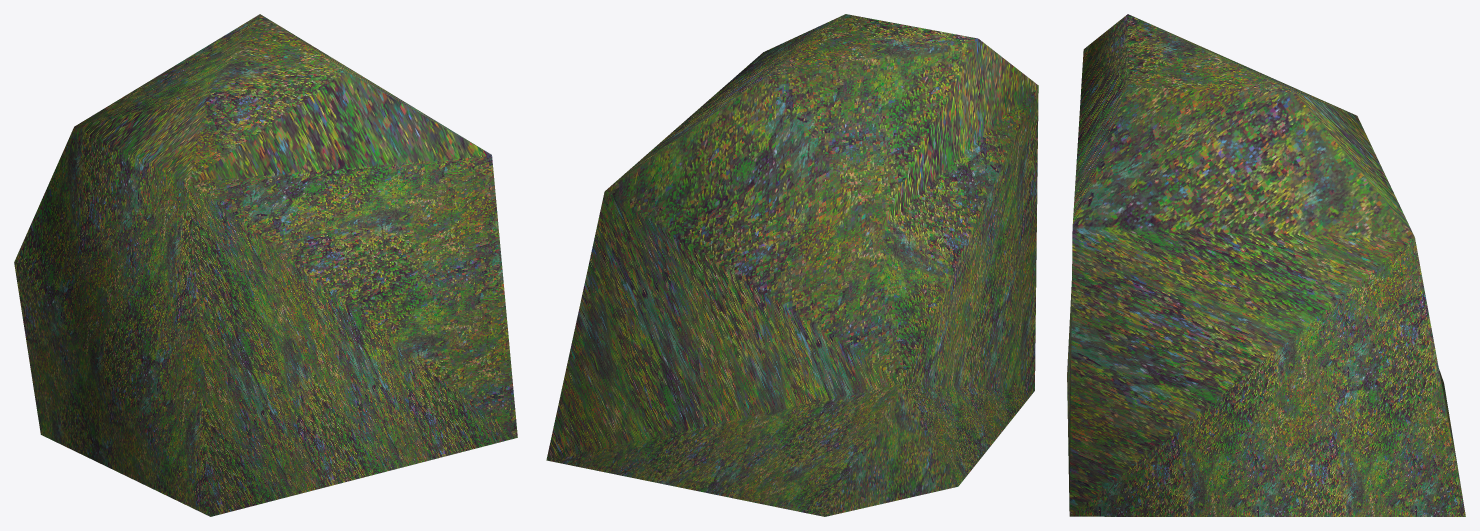
The model's file is rock_mossy_small_a1_l3.fbx.
The picture shows the model from 3 angles, left to right: view 1: azimuth 30°, elevation 25°; view 2: azimuth 150°, elevation 25°; view 3: azimuth 270°, elevation 25°; orthographic projection. The views are drawn at different scales.
Parts seen in each view (by area): view 1: mesh_node; view 2: mesh_node; view 3: mesh_node.
Part boxes in pixels (bbox=[...]): mesh_node: bbox=[14, 14, 517, 516]; mesh_node: bbox=[546, 14, 1038, 516]; mesh_node: bbox=[1067, 14, 1465, 516].
Size of the model in its own units: 1.74 by 1.83 by 1.77.
